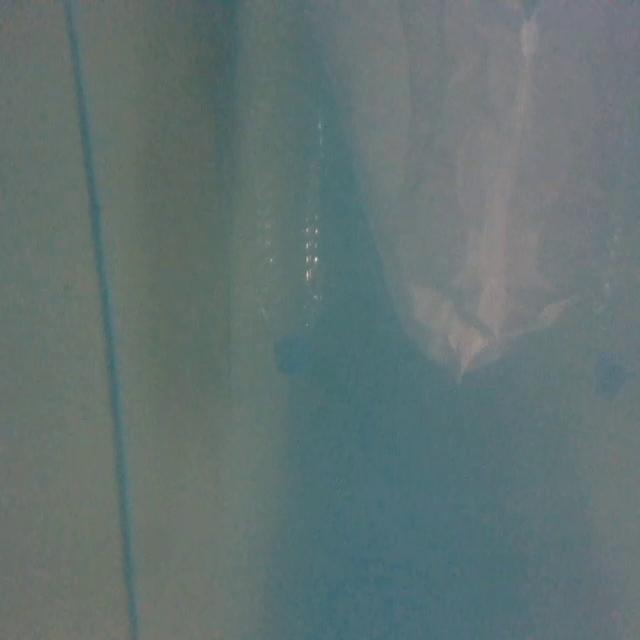plastic bottle: (316, 0, 590, 384), (240, 98, 333, 389), (581, 194, 640, 403)
